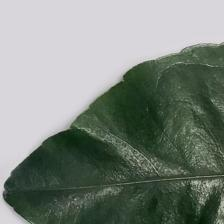healthy: (0, 52, 224, 224)
